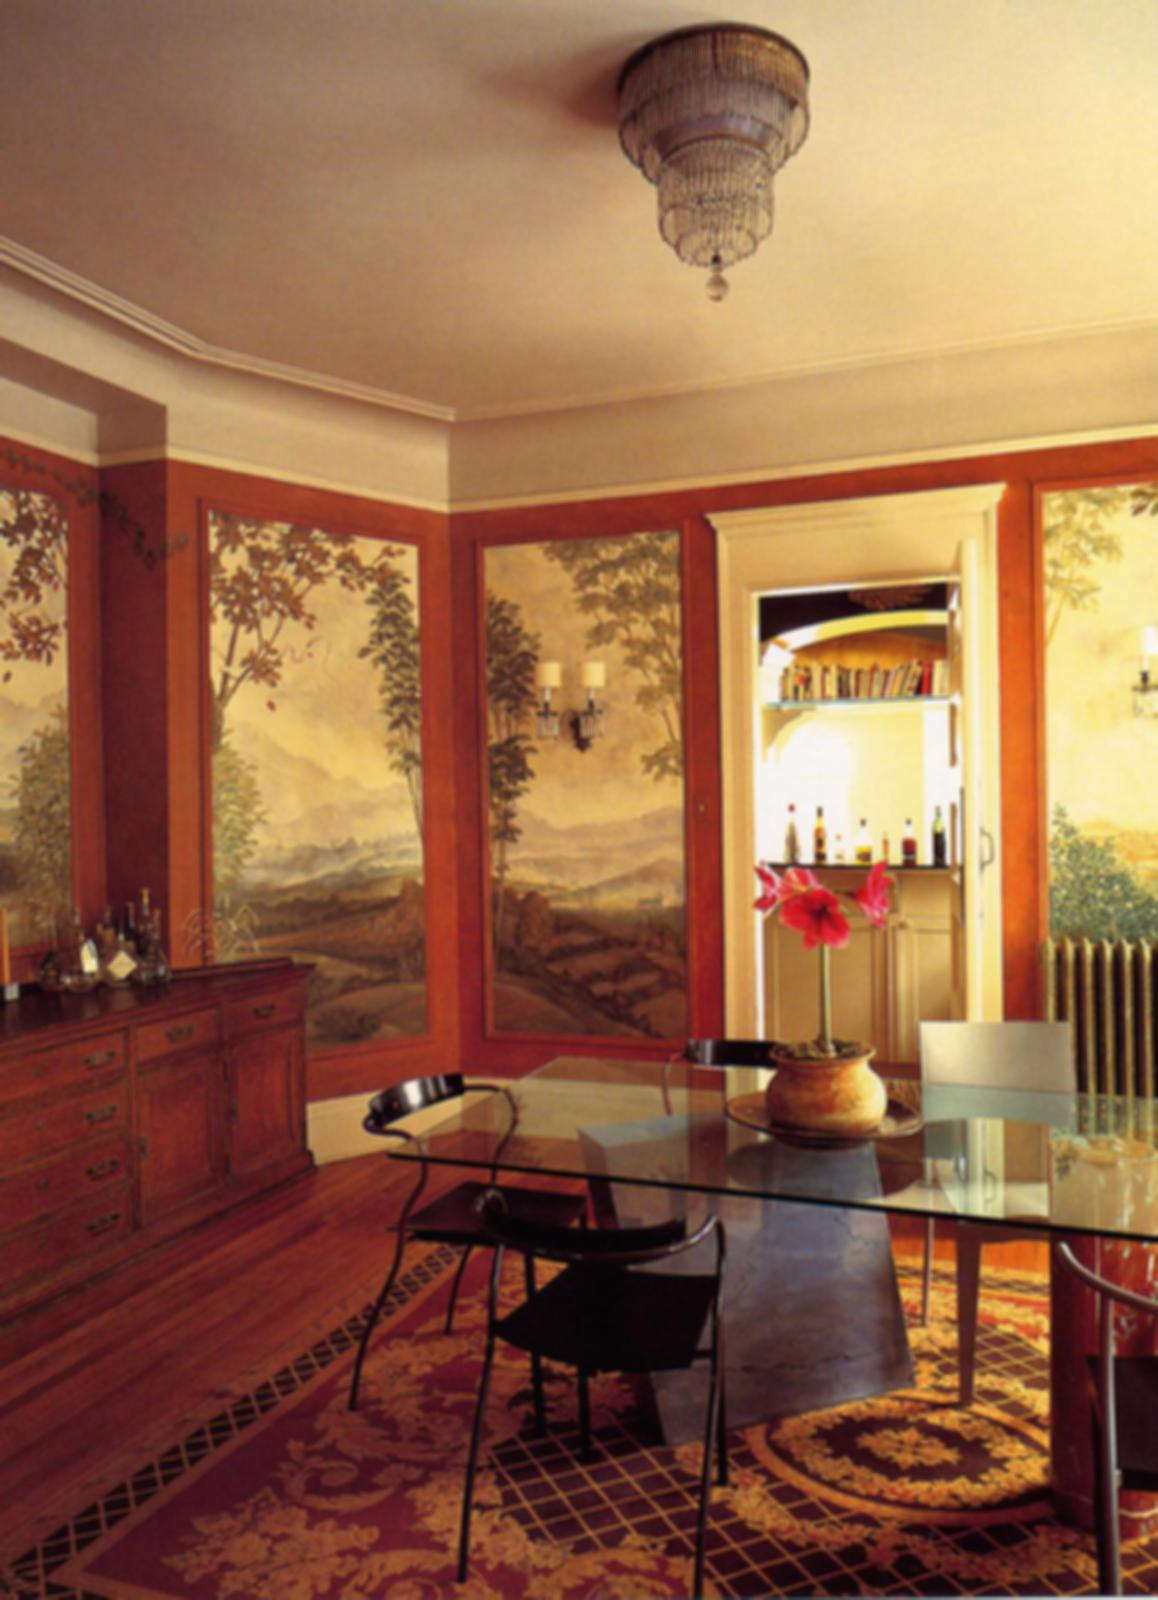Matera: (709, 852, 893, 1152)
